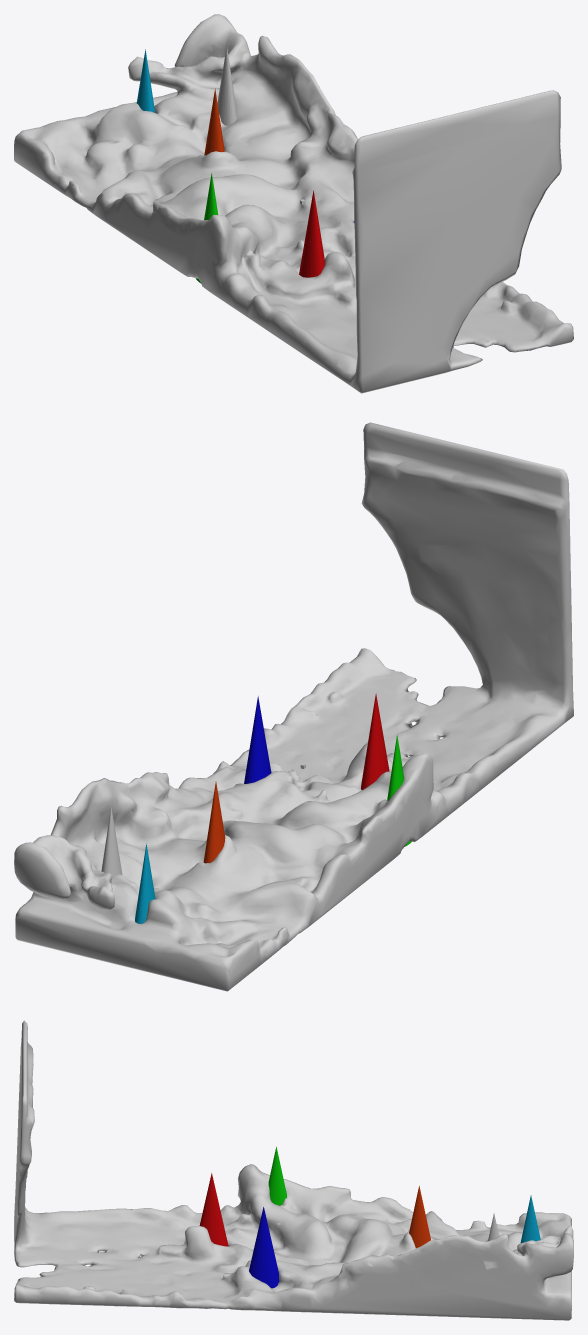
The picture shows the model from 3 angles, top to bottom: view 1: azimuth 30°, elevation 25°; view 2: azimuth 150°, elevation 25°; view 3: azimuth 270°, elevation 25°; orthographic projection. The views are drawn at different scales.
Visible parts, largest first — view 1: Liquid_Domain, 円錐.001, 円錐, 円錐.004, 円錐.005; view 2: Liquid_Domain, 円錐.001, 円錐.002, 円錐.004, 円錐.005, 円錐; view 3: Liquid_Domain, 円錐.002, 円錐.001, 円錐.004, 円錐.003, 円錐.005.
Part boxes in pixels (bbox=[...]): Liquid_Domain: bbox=[14, 14, 573, 393]; 円錐.001: bbox=[299, 190, 324, 277]; 円錐: bbox=[217, 45, 237, 125]; 円錐.004: bbox=[204, 88, 224, 155]; 円錐.005: bbox=[136, 49, 155, 112]; Liquid_Domain: bbox=[14, 422, 573, 991]; 円錐.001: bbox=[361, 693, 389, 789]; 円錐.002: bbox=[244, 696, 271, 783]; 円錐.004: bbox=[203, 781, 225, 863]; 円錐.005: bbox=[135, 843, 155, 923]; 円錐: bbox=[101, 807, 122, 877]; Liquid_Domain: bbox=[14, 1020, 573, 1320]; 円錐.002: bbox=[249, 1207, 279, 1288]; 円錐.001: bbox=[199, 1173, 228, 1246]; 円錐.004: bbox=[409, 1186, 430, 1248]; 円錐.003: bbox=[268, 1146, 286, 1205]; 円錐.005: bbox=[520, 1195, 540, 1242].
Size of the model in its own units: 129 by 158 by 363.
